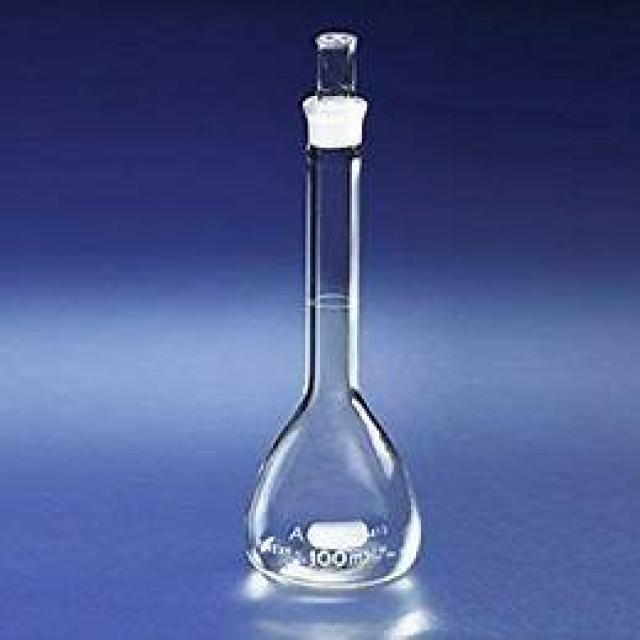Volumetric flask: (238, 18, 424, 593)
